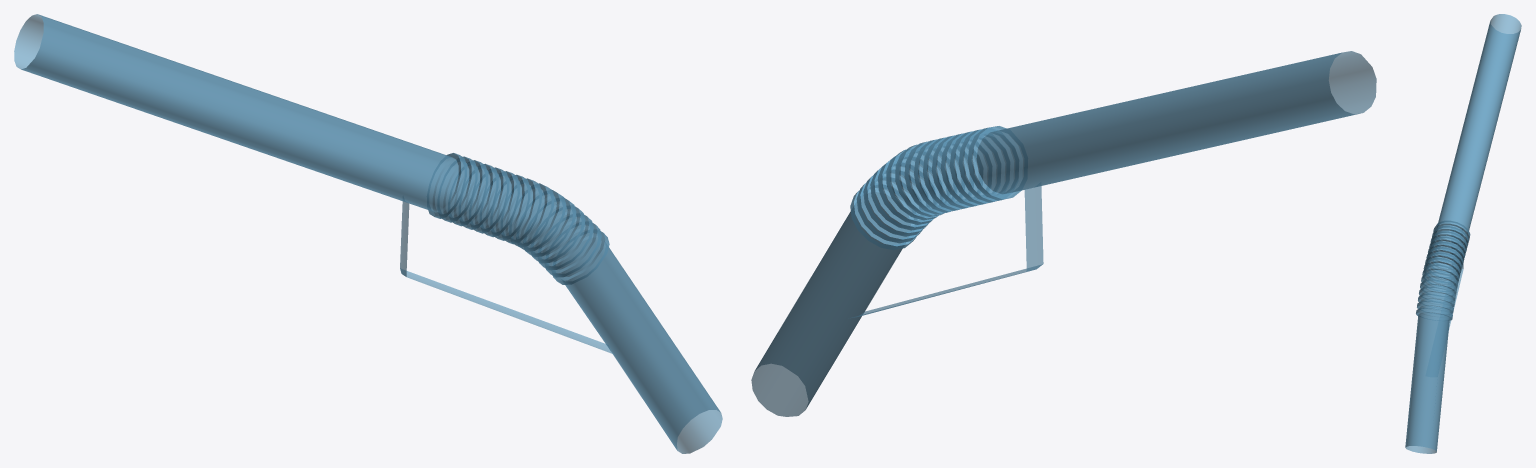
The model's file is трубочка.fbx.
The picture shows the model from 3 angles, left to right: view 1: azimuth 30°, elevation 25°; view 2: azimuth 150°, elevation 25°; view 3: azimuth 270°, elevation 25°; orthographic projection. The views are drawn at different scales.
Parts seen in each view (by area): view 1: Cylinder; view 2: Cylinder; view 3: Cylinder.
Part boxes in pixels (left/top/right/bottom): Cylinder: left=14, top=14, right=722, bottom=453; Cylinder: left=751, top=51, right=1376, bottom=416; Cylinder: left=1405, top=14, right=1521, bottom=453.
Bounding box in the file's own units: 399 × 316 × 116.
